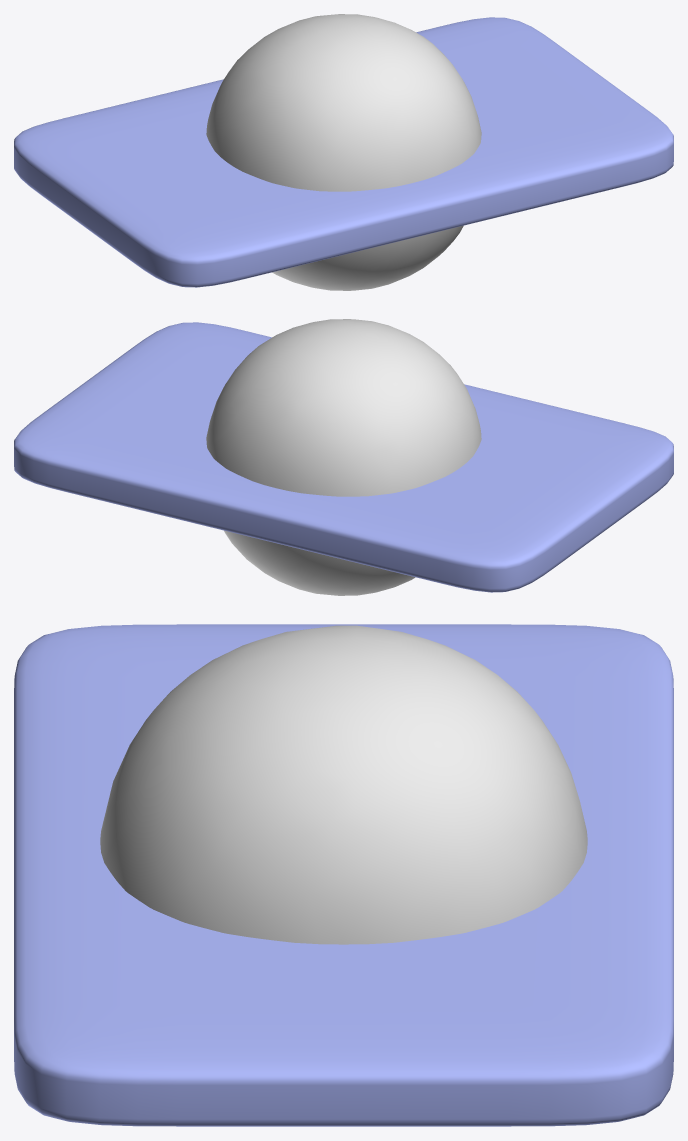
The model's file is flashcard-optimized.fbx.
3 renders of one model, top to bottom at view 1: azimuth 30°, elevation 25°; view 2: azimuth 150°, elevation 25°; view 3: azimuth 270°, elevation 25°, orthographic. The views are drawn at different scales.
Visible parts, largest first — view 1: Cube.023, Cube.024; view 2: Cube.023, Cube.024; view 3: Cube.023, Cube.024.
Part boxes in pixels (x1,y1,x2,y2): Cube.023: (14,17,673,287); Cube.024: (206,14,481,290); Cube.023: (14,322,673,592); Cube.024: (206,319,481,595); Cube.023: (14,624,673,1126); Cube.024: (100,625,587,944).
Bounding box in the file's own units: 6.73 × 3.08 × 4.14.
